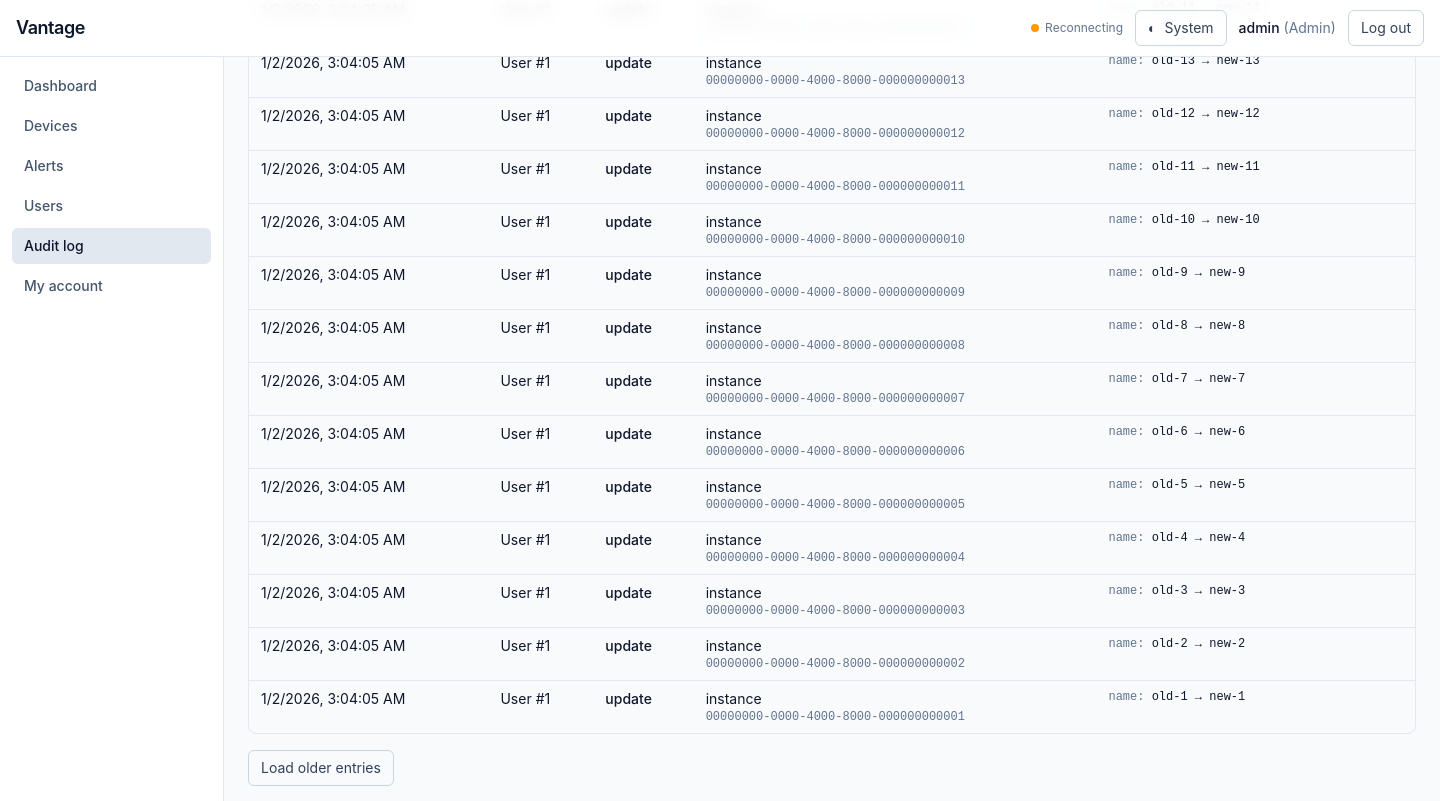
Test: audit page › keeps loaded entries when an older page fails
The width and height of the screenshot is (1440, 801).
(page scrolled)
Click the button "Load older entries" at point(321, 768), box [248, 750, 394, 786]
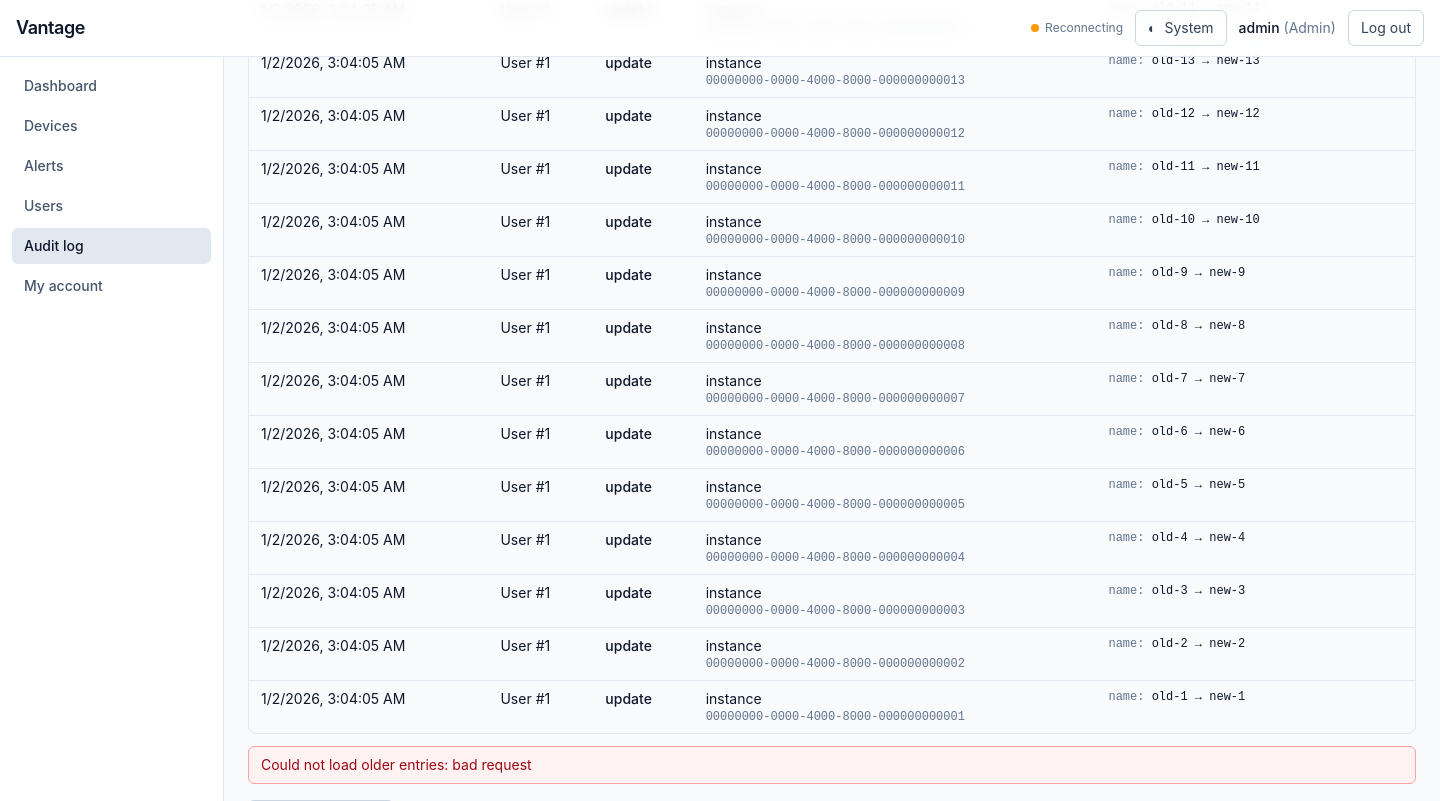
Result: the message reads "Could not load older entries: bad request" at [248, 746, 1416, 784]
